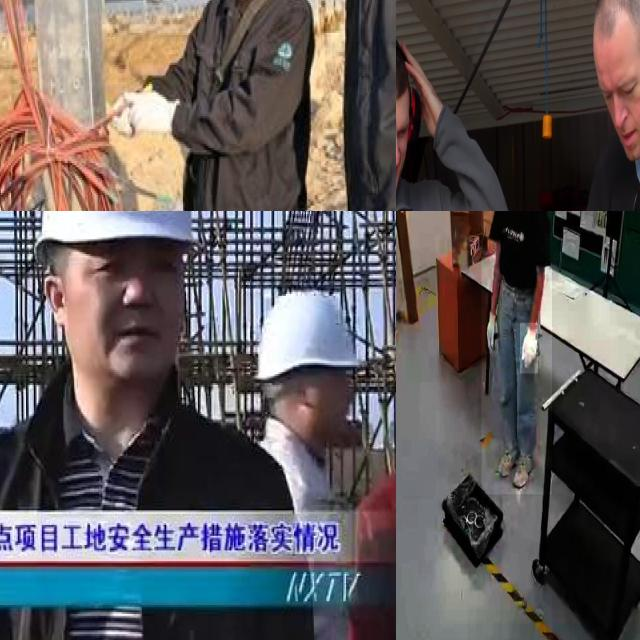Ear-protection: (396, 19, 453, 211)
No_Ear-Protection: (40, 267, 74, 332)
No_Glasses: (84, 242, 198, 300), (597, 60, 640, 112), (396, 112, 411, 151)
hand_glove: (520, 323, 538, 374), (485, 305, 501, 352)
person: (481, 211, 552, 495)
shoes: (512, 447, 538, 490), (496, 445, 520, 480)
